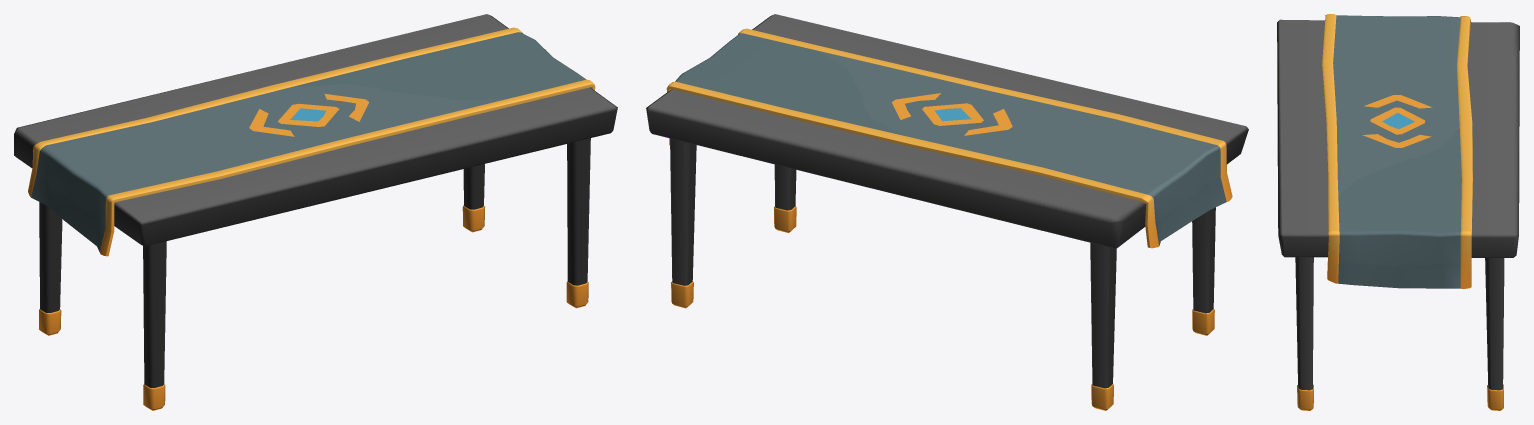
The model's file is P_TableSilver.glb.
3 renders of one model, left to right at view 1: azimuth 30°, elevation 25°; view 2: azimuth 150°, elevation 25°; view 3: azimuth 270°, elevation 25°, orthographic. The views are drawn at different scales.
Visible parts, largest first — view 1: P_TableSilver; view 2: P_TableSilver; view 3: P_TableSilver.
Boxes of the visible parts, bbox=[...] form: P_TableSilver: bbox=[14, 14, 617, 410]; P_TableSilver: bbox=[646, 14, 1248, 410]; P_TableSilver: bbox=[1277, 14, 1519, 410].
Size of the model in its own units: 22.09 by 8.82 by 10.13.
Materials: 1 (1 with a texture image).
